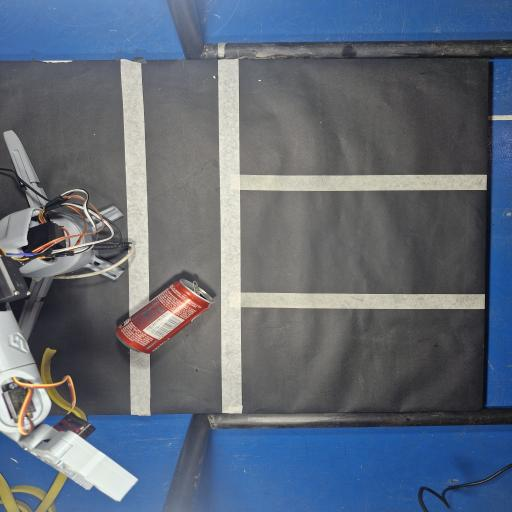lata: (116, 279, 213, 354)
